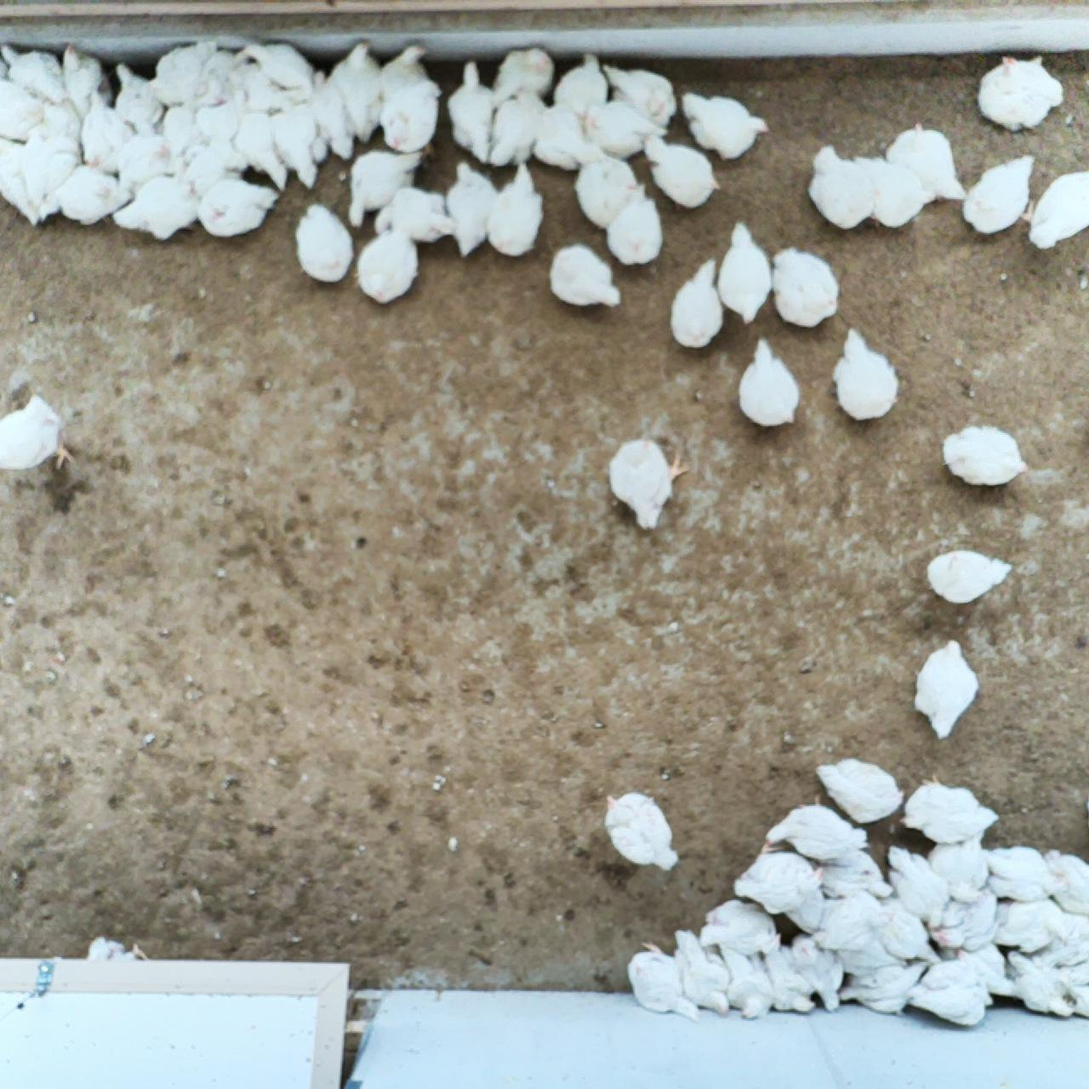chicken: (607, 435, 689, 533), (898, 774, 996, 846), (913, 639, 981, 741), (976, 55, 1064, 133), (342, 148, 425, 229), (887, 122, 966, 207), (69, 932, 155, 1010), (600, 791, 679, 874), (763, 801, 869, 862), (832, 326, 899, 421), (681, 91, 770, 162), (0, 391, 73, 476), (814, 757, 904, 825), (732, 849, 826, 914), (715, 220, 773, 325), (641, 132, 720, 208), (767, 248, 842, 328), (910, 958, 996, 1027), (807, 143, 875, 230), (115, 175, 199, 245), (857, 154, 936, 228), (963, 154, 1036, 234), (736, 335, 800, 426), (626, 940, 699, 1019), (38, 164, 131, 226), (943, 424, 1031, 488), (1019, 168, 1089, 248), (669, 928, 731, 1018), (331, 36, 383, 143), (487, 162, 545, 257), (446, 58, 496, 164), (605, 182, 667, 266), (487, 86, 551, 167), (927, 548, 1016, 606), (669, 257, 725, 349), (443, 161, 497, 256), (550, 242, 624, 311), (886, 844, 946, 929), (147, 39, 220, 108), (295, 202, 355, 284), (698, 895, 781, 954), (602, 61, 676, 127), (199, 178, 279, 239), (786, 933, 846, 1014), (584, 101, 667, 159), (923, 827, 986, 903), (837, 962, 927, 1015), (574, 157, 640, 229), (355, 230, 419, 304), (373, 185, 456, 242), (1008, 949, 1074, 1020), (20, 125, 77, 207), (380, 77, 442, 151), (873, 895, 940, 963), (719, 946, 779, 1021), (930, 890, 1001, 953), (983, 844, 1056, 904), (306, 70, 355, 158), (759, 944, 819, 1015), (375, 42, 434, 114), (0, 45, 69, 106), (992, 896, 1065, 953), (946, 946, 1019, 1000), (81, 91, 130, 171), (271, 102, 316, 189), (490, 45, 553, 107), (110, 61, 165, 131), (812, 852, 892, 900), (238, 110, 288, 186), (114, 132, 172, 194), (62, 41, 113, 111), (0, 136, 39, 227), (241, 40, 314, 88), (560, 52, 610, 121), (1043, 849, 1089, 915), (775, 876, 827, 934), (536, 107, 582, 172), (173, 145, 230, 197), (34, 97, 83, 155), (834, 936, 908, 972), (0, 75, 43, 135), (231, 66, 284, 112), (161, 103, 206, 156), (1046, 915, 1089, 965), (200, 47, 238, 102), (200, 92, 239, 145), (1060, 962, 1089, 1021)
